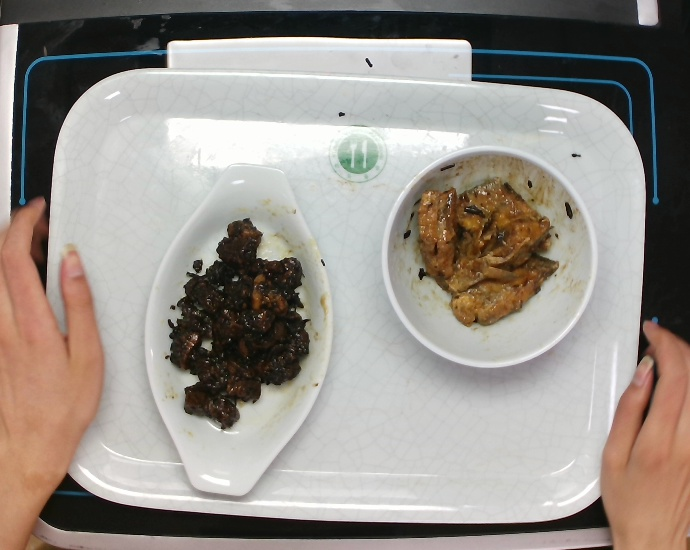JYsf-Fan_Wan: (374, 143, 603, 377)
JYsf-Yu_Pan: (140, 159, 341, 503)
